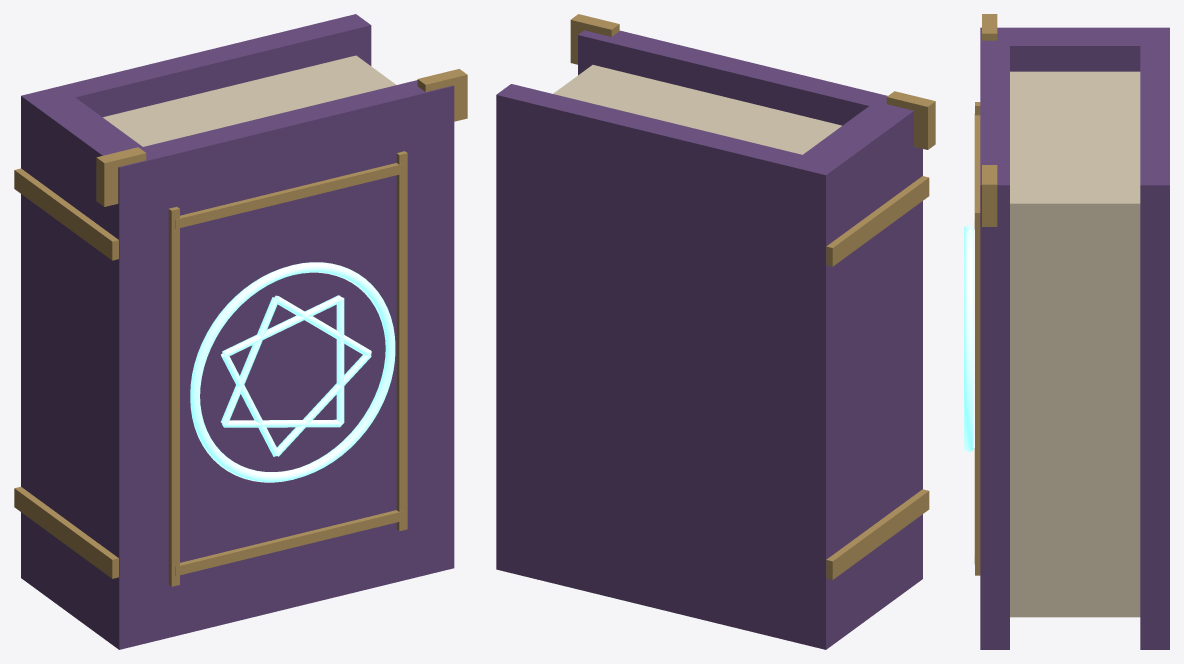
The model's file is grimoire-ai-agents.glb.
3 renders of one model, left to right at view 1: azimuth 30°, elevation 25°; view 2: azimuth 150°, elevation 25°; view 3: azimuth 270°, elevation 25°, orthographic. The views are drawn at different scales.
Parts seen in each view (by area): view 1: Grimoire_3_violet, Grimoire_3_gold, Grimoire_3_glow, Grimoire_3_paper; view 2: Grimoire_3_violet, Grimoire_3_paper, Grimoire_3_gold; view 3: Grimoire_3_paper, Grimoire_3_violet, Grimoire_3_gold, Grimoire_3_glow.
Part boxes in pixels (box(x1,y1,x2,y2)): Grimoire_3_violet: box(21, 14, 454, 649); Grimoire_3_gold: box(14, 69, 467, 586); Grimoire_3_glow: box(190, 262, 395, 482); Grimoire_3_paper: box(103, 55, 396, 146); Grimoire_3_violet: box(496, 30, 922, 649); Grimoire_3_paper: box(553, 65, 841, 154); Grimoire_3_gold: box(570, 14, 935, 579); Grimoire_3_paper: box(1010, 71, 1140, 617); Grimoire_3_violet: box(980, 27, 1169, 649); Grimoire_3_gold: box(974, 14, 997, 575); Grimoire_3_glow: box(964, 224, 973, 452).
Size of the model in its own units: 0.52 by 0.67 by 0.2651.
